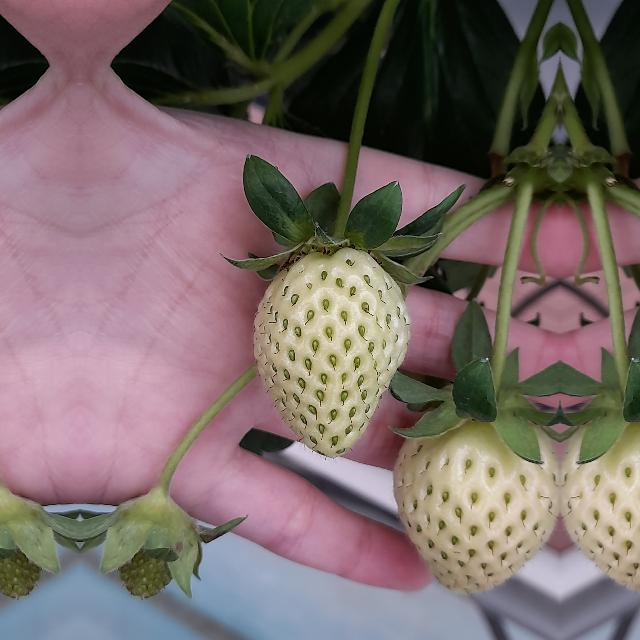Health_25: (254, 247, 411, 457)
